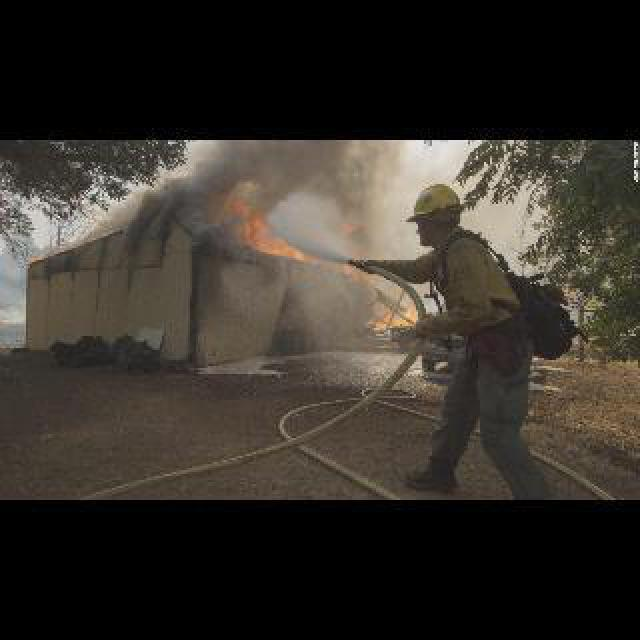Fire: (222, 196, 310, 254), (372, 292, 422, 328), (28, 254, 50, 260)
Smoke: (158, 142, 404, 208)
